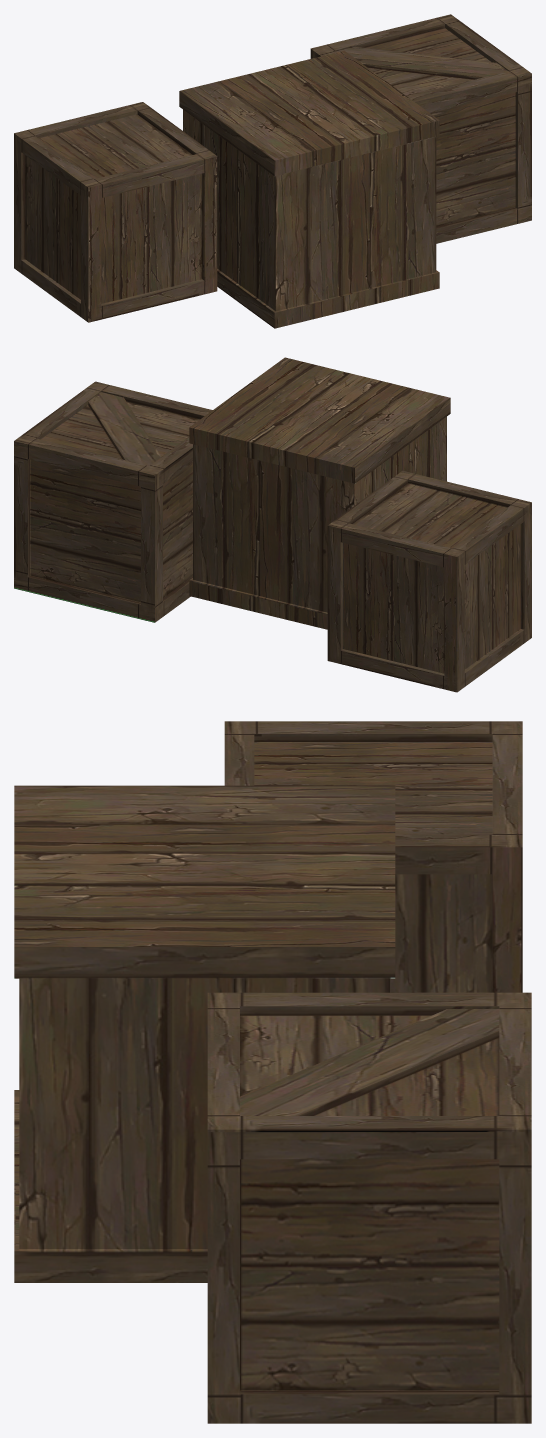
File: ShootingStation.glb
3 views of the same model, one above another, from view 1: azimuth 30°, elevation 25°; view 2: azimuth 150°, elevation 25°; view 3: azimuth 270°, elevation 25° (orthographic). The views are drawn at different scales.
Parts seen in each view (by area): view 1: crate2, crate1, crate3; view 2: crate2, crate1, crate3; view 3: crate3, crate2, crate1.
Boxes of the visible parts, box(x1,y1,x2,y2) form: crate2: box(179, 50, 439, 328); crate1: box(14, 102, 217, 322); crate3: box(310, 14, 531, 243); crate2: box(189, 357, 450, 629); crate1: box(327, 471, 531, 692); crate3: box(14, 381, 212, 622); crate3: box(207, 992, 531, 1423); crate2: box(14, 785, 395, 1282); crate1: box(224, 721, 522, 992).
Bounding box in the file's own units: 2.64 × 0.9753 × 1.35.
3 materials, 3 textured.
